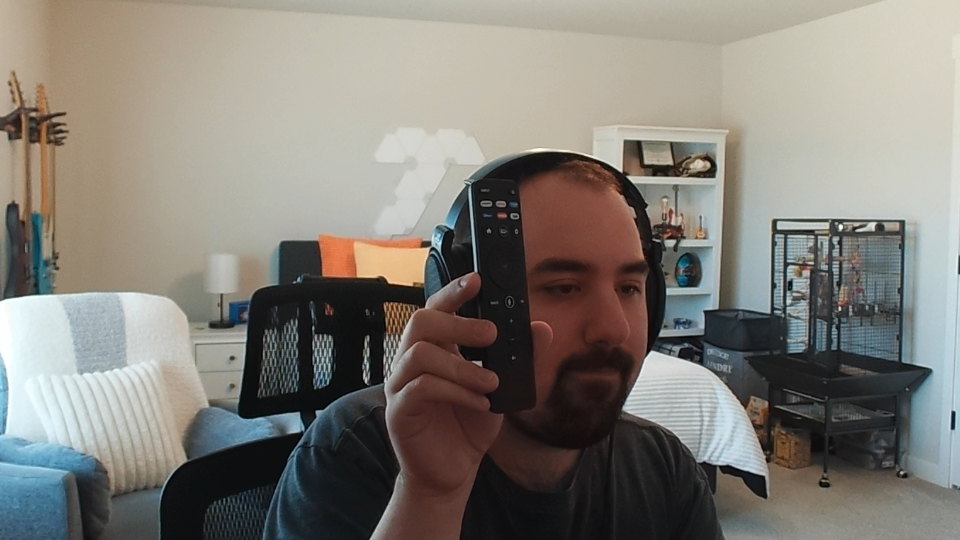TVRemote: (467, 178, 539, 414)
